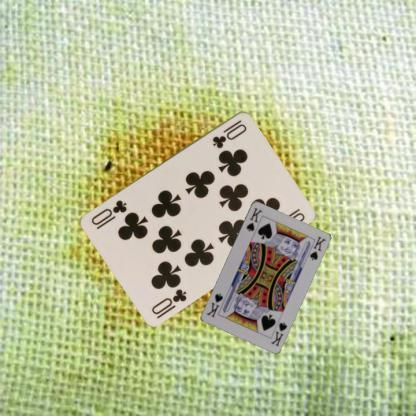10c: (148, 286, 188, 320), (210, 116, 248, 150)
Ks: (268, 320, 288, 348), (244, 205, 264, 232)
